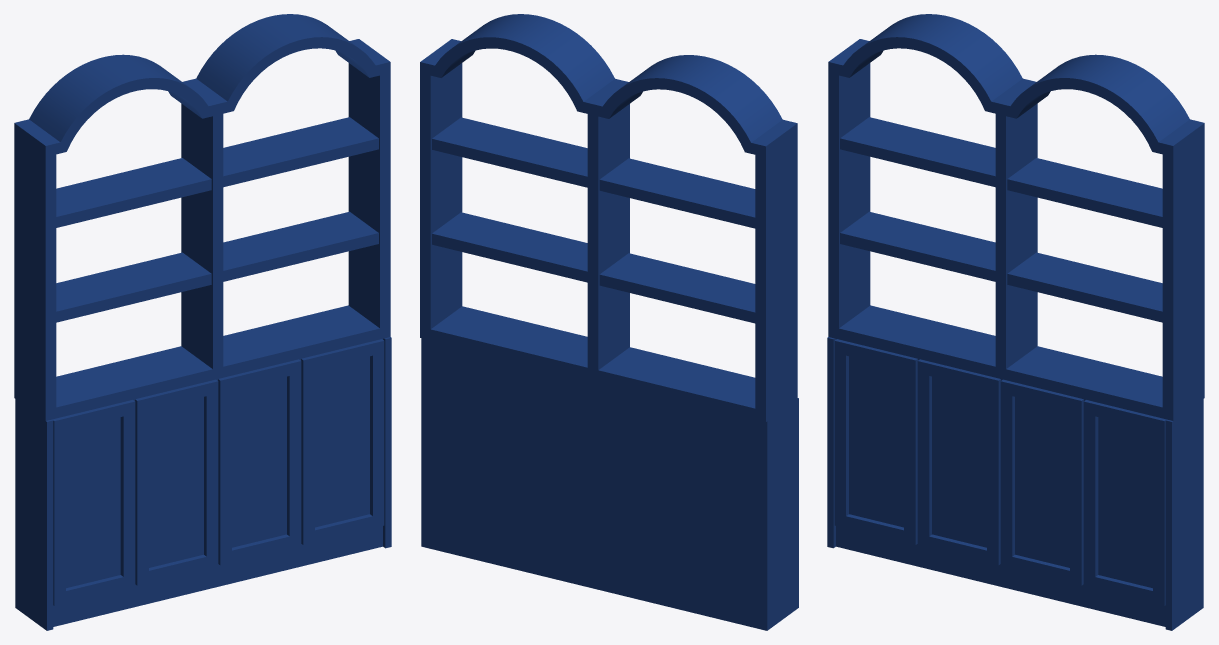
The model's file is jiugui.FBX.
The picture shows the model from 3 angles, left to right: view 1: azimuth 30°, elevation 25°; view 2: azimuth 150°, elevation 25°; view 3: azimuth 330°, elevation 25°; orthographic projection.
Parts seen in each view (by area): view 1: Rectangle054, Layer:0, Rectangle052, Rectangle053; view 2: Rectangle054, Layer:0, Rectangle052, Rectangle053; view 3: Rectangle054, Layer:0, Rectangle052, Rectangle053.
Part boxes in pixels (x1,y1,x2,y2): Rectangle054: (52, 339, 384, 626); Layer:0: (14, 14, 390, 420); Rectangle052: (56, 117, 378, 322); Rectangle053: (15, 337, 391, 630); Rectangle054: (427, 340, 760, 629); Layer:0: (420, 14, 797, 421); Rectangle052: (432, 117, 755, 323); Rectangle053: (421, 338, 798, 630); Rectangle054: (834, 339, 1166, 626); Layer:0: (828, 14, 1204, 420); Rectangle052: (840, 117, 1162, 322); Rectangle053: (827, 337, 1203, 630).
Bounding box in the file's own units: 1640 × 2400 × 270.
